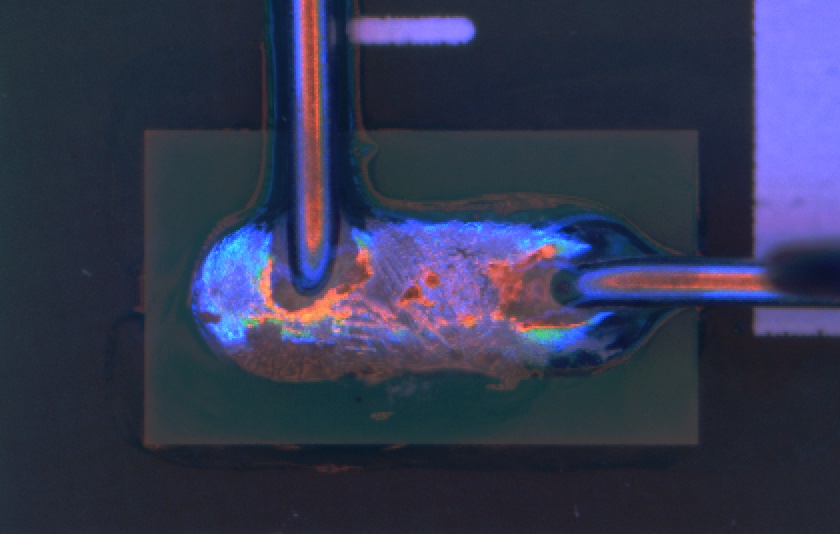spring: (539, 240, 840, 320), (276, 1, 349, 303)
spring_pin: (194, 211, 674, 373)
